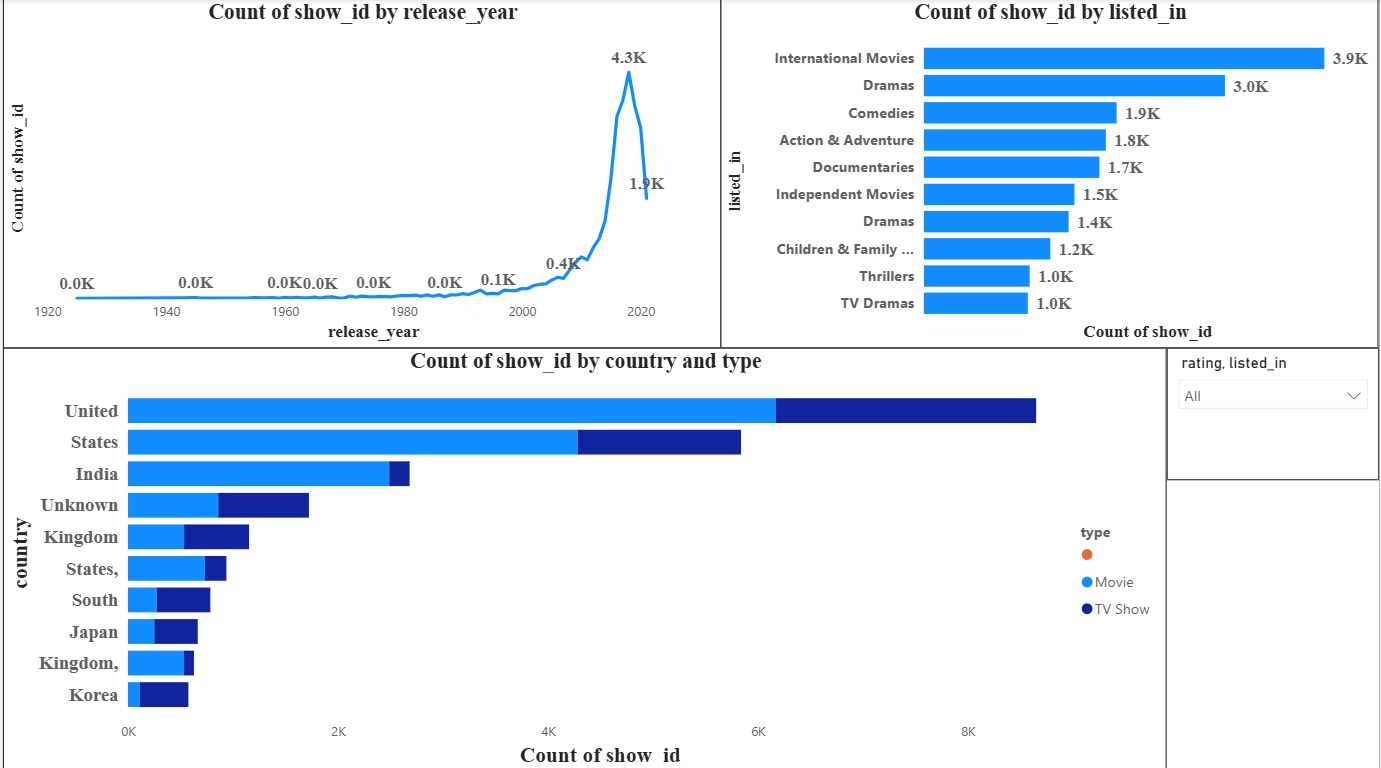

What the dashboard file says about the page in this screenshot:
{"tool":"powerbi","page":{"name":"Analysis","canvas":[1280,720],"ordinal":1},"visuals":[{"type":"lineChart","fields":{"Category":["netflix_titles.release_year"],"Y":["CountNonNull(netflix_titles.show_id)"]},"box":[0,0,667.8,324.4],"z":0},{"type":"barChart","fields":{"Category":["netflix_titles.listed_in"],"Y":["CountNonNull(netflix_titles.show_id)"]},"box":[667.8,0,612.2,324.4],"z":1001},{"type":"barChart","fields":{"Category":["netflix_titles.country"],"Y":["CountNonNull(netflix_titles.show_id)"],"Series":["netflix_titles.listed_in"]},"box":[71.1,333.3,1015.6,353.3],"z":1002}]}

Visuals, with their boxes in screenshot pixels (x1, y1, x2, y2), scaled from the page's 1280x720 canvas onto the 1381x768 screenshot:
lineChart - netflix_titles.release_year x CountNonNull(netflix_titles.show_id): box(0, 0, 720, 346)
barChart - netflix_titles.listed_in x CountNonNull(netflix_titles.show_id): box(720, 0, 1380, 346)
barChart - netflix_titles.country x CountNonNull(netflix_titles.show_id): box(77, 356, 1172, 732)
